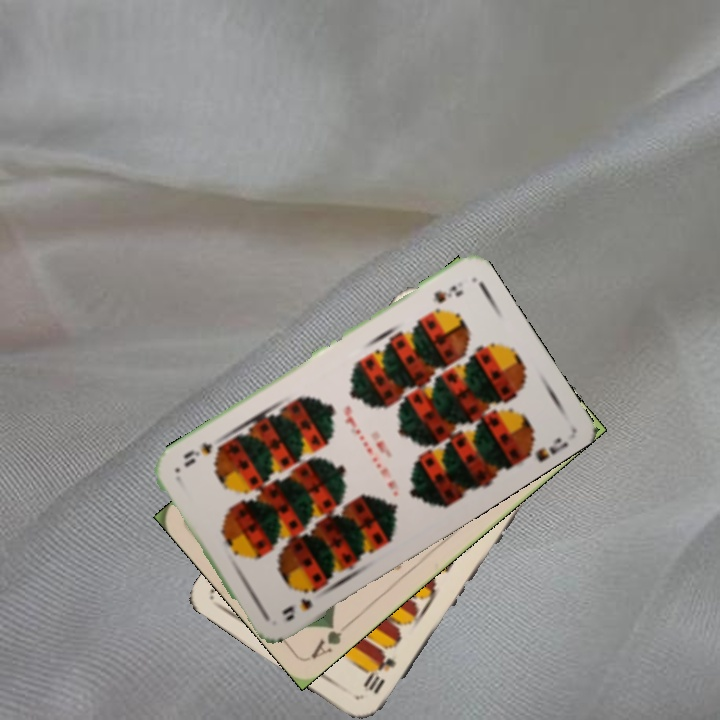E10: (359, 642, 399, 697)
GA: (306, 617, 355, 662)
S9: (278, 581, 324, 625), (429, 281, 465, 306)
